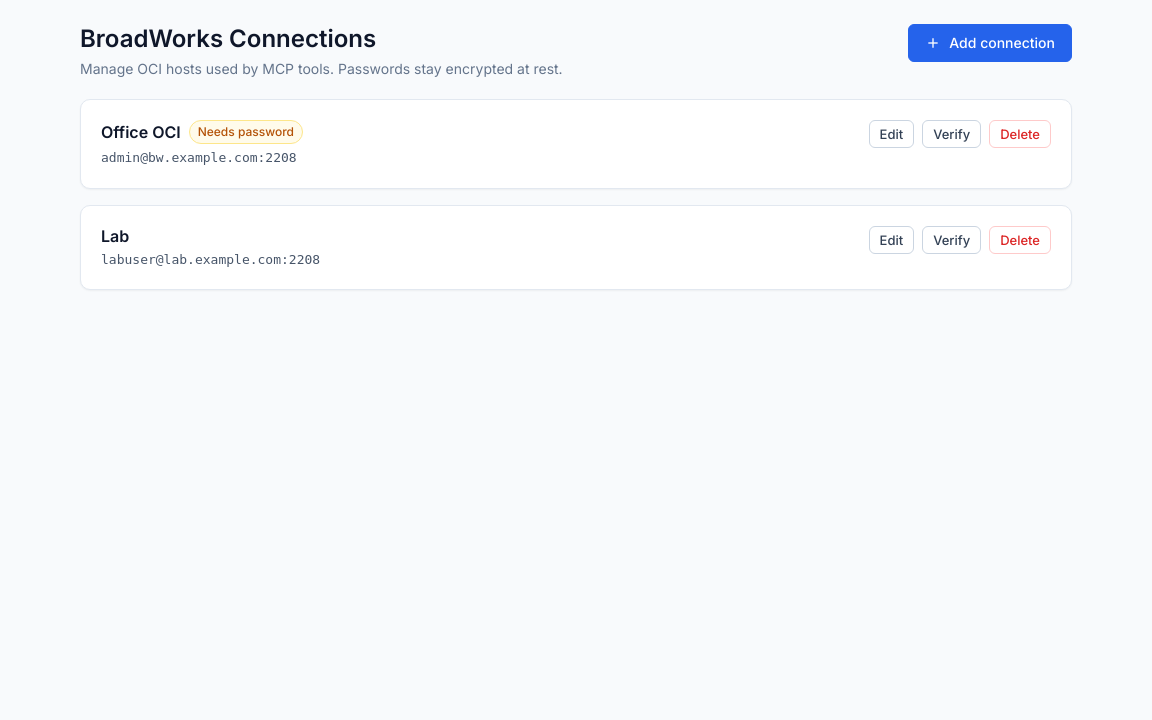
Test: ConnectionsListComponent › deletes after confirming in the dialog and reloads the list
Click the button with class "btn-outline-danger" in the row of "Needs password".
click(1020, 134)  # box left=989, top=120, right=1051, bottom=148
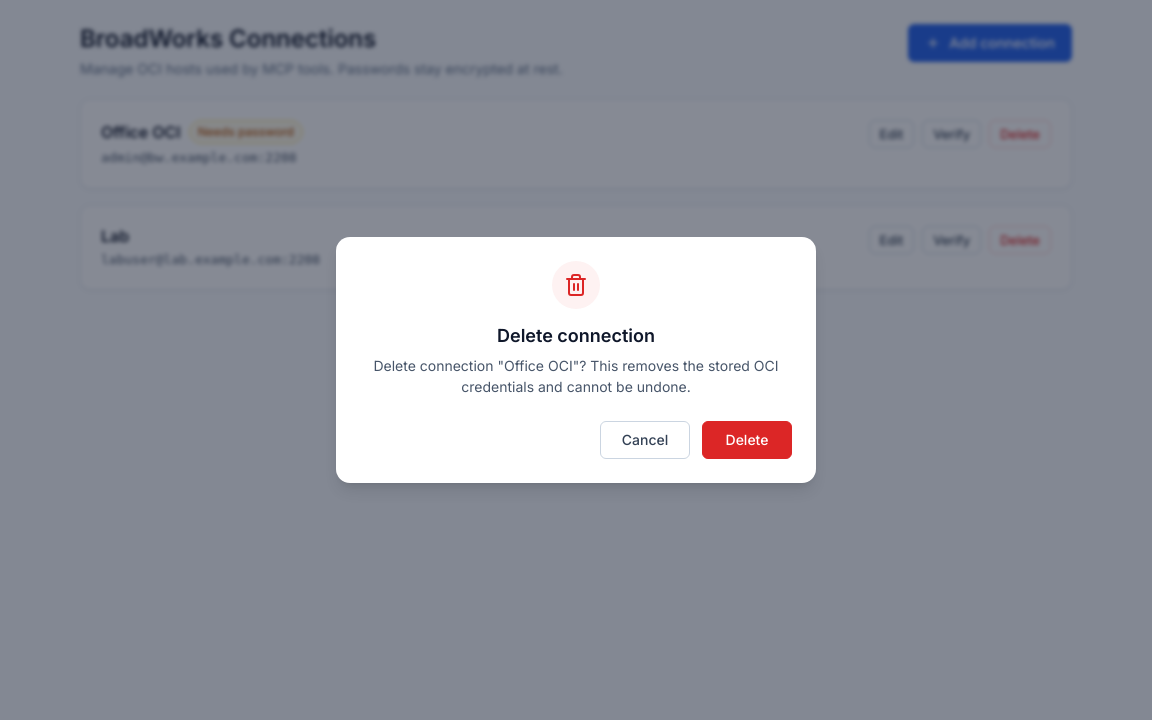
Click the button with class "btn-danger".
click(747, 440)  # box left=702, top=422, right=792, bottom=459
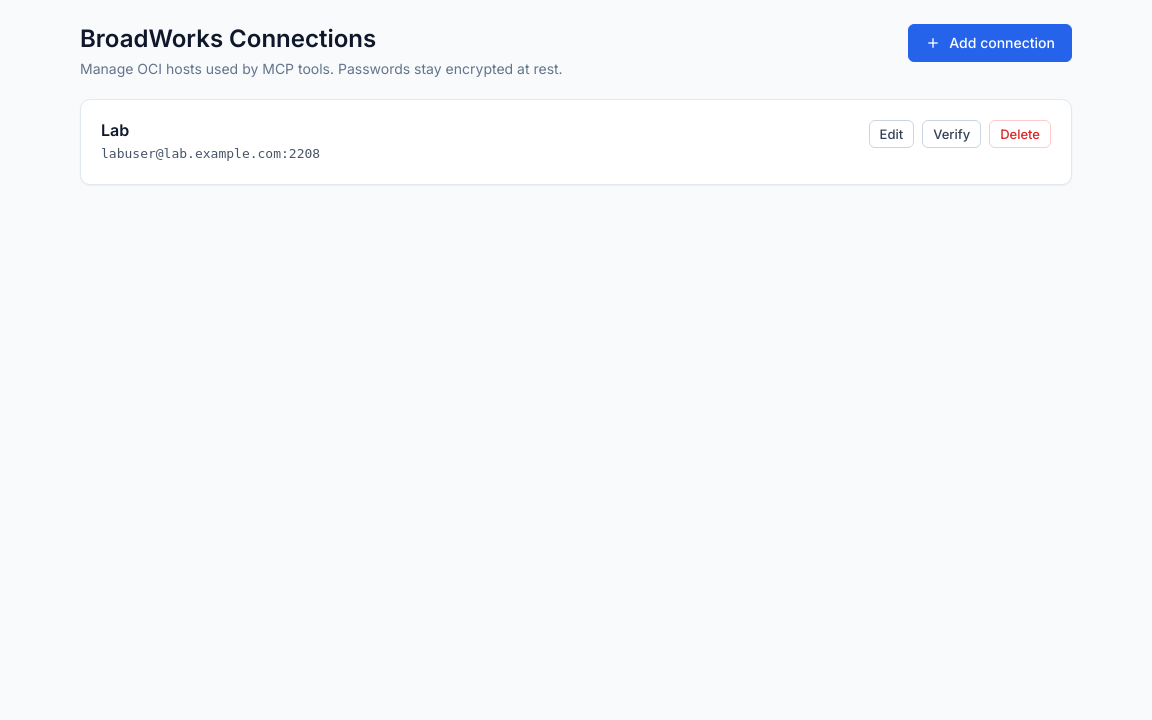
Expected: the text "Lab" is shown, left=101, top=120, right=129, bottom=140
Now the dialog is gone
Now the text "Office OCI" is gone
